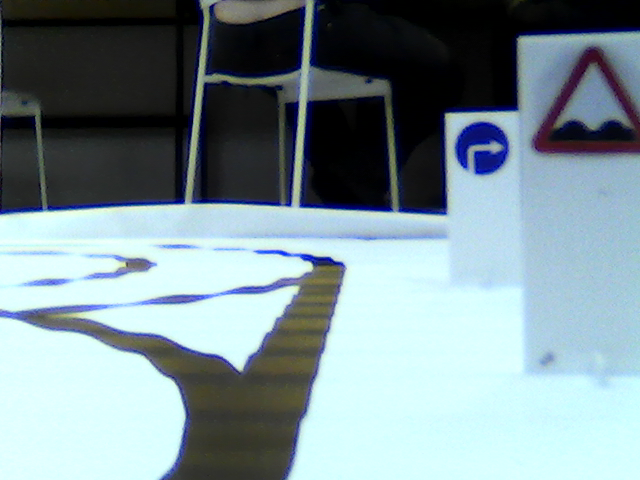Nerov: (528, 41, 637, 157)
